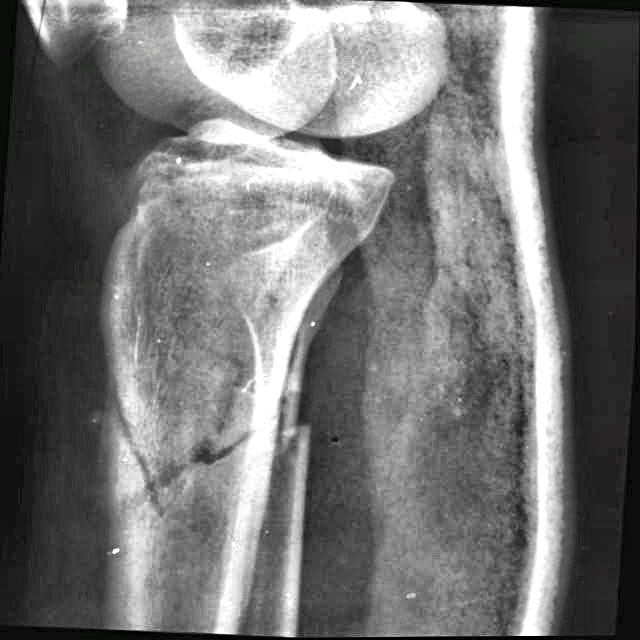Oblique Displaced: (105, 369, 309, 546)
